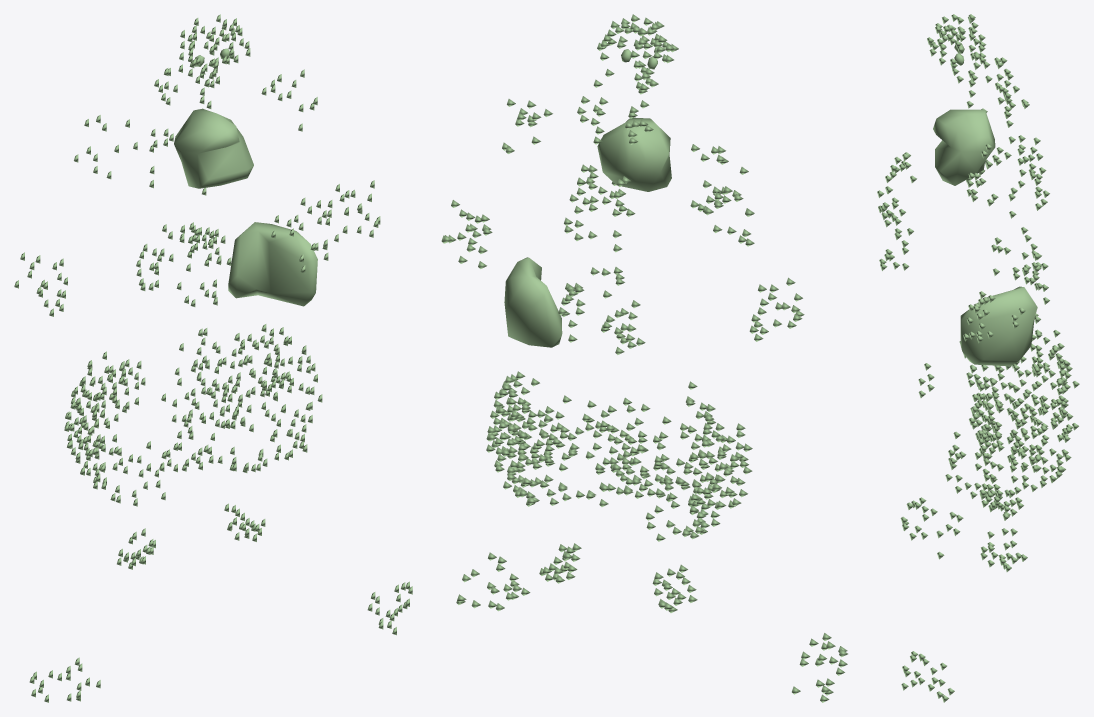
Rendered from pediatric_neonate_male.lymphatic.LOD3.glb.
3 renders of one model, left to right at view 1: azimuth 30°, elevation 25°; view 2: azimuth 150°, elevation 25°; view 3: azimuth 270°, elevation 25°, orthographic. The views are drawn at different scales.
Visible parts, largest first — view 1: PEDIATRIC.NEONATE.MALE.LYMPHATIC.LYMPHATIC_NODES_TRUNK, PEDIATRIC.NEONATE.MALE.LYMPHATIC.SPLEEN, PEDIATRIC.NEONATE.MALE.LYMPHATIC.THYMUS, PEDIATRIC.NEONATE.MALE.LYMPHATIC.LYMPHATIC_NODES_ET, PEDIATRIC.NEONATE.MALE.LYMPHATIC.LYMPHATIC_NODES_THORACIC, PEDIATRIC.NEONATE.MALE.LYMPHATIC.LYMPHATIC_NODES_ARMS, PEDIATRIC.NEONATE.MALE.LYMPHATIC.LYMPHATIC_NODES_LEGS; view 2: PEDIATRIC.NEONATE.MALE.LYMPHATIC.LYMPHATIC_NODES_TRUNK, PEDIATRIC.NEONATE.MALE.LYMPHATIC.THYMUS, PEDIATRIC.NEONATE.MALE.LYMPHATIC.SPLEEN, PEDIATRIC.NEONATE.MALE.LYMPHATIC.LYMPHATIC_NODES_THORACIC, PEDIATRIC.NEONATE.MALE.LYMPHATIC.LYMPHATIC_NODES_ET, PEDIATRIC.NEONATE.MALE.LYMPHATIC.LYMPHATIC_NODES_LEGS, PEDIATRIC.NEONATE.MALE.LYMPHATIC.LYMPHATIC_NODES_ARMS, PEDIATRIC.NEONATE.MALE.LYMPHATIC.LYMPHATIC_NODES_HEAD; view 3: PEDIATRIC.NEONATE.MALE.LYMPHATIC.LYMPHATIC_NODES_TRUNK, PEDIATRIC.NEONATE.MALE.LYMPHATIC.SPLEEN, PEDIATRIC.NEONATE.MALE.LYMPHATIC.THYMUS, PEDIATRIC.NEONATE.MALE.LYMPHATIC.LYMPHATIC_NODES_THORACIC, PEDIATRIC.NEONATE.MALE.LYMPHATIC.LYMPHATIC_NODES_ET, PEDIATRIC.NEONATE.MALE.LYMPHATIC.LYMPHATIC_NODES_LEGS, PEDIATRIC.NEONATE.MALE.LYMPHATIC.LYMPHATIC_NODES_ARMS, PEDIATRIC.NEONATE.MALE.LYMPHATIC.LYMPHATIC_NODES_HEAD.
Boxes of the visible parts, x1=… form: PEDIATRIC.NEONATE.MALE.LYMPHATIC.LYMPHATIC_NODES_TRUNK: x1=64, y1=69, x2=329, y2=569; PEDIATRIC.NEONATE.MALE.LYMPHATIC.SPLEEN: x1=228, y1=222, x2=317, y2=306; PEDIATRIC.NEONATE.MALE.LYMPHATIC.THYMUS: x1=174, y1=108, x2=253, y2=188; PEDIATRIC.NEONATE.MALE.LYMPHATIC.LYMPHATIC_NODES_ET: x1=178, y1=14, x2=250, y2=87; PEDIATRIC.NEONATE.MALE.LYMPHATIC.LYMPHATIC_NODES_THORACIC: x1=136, y1=128, x2=225, y2=306; PEDIATRIC.NEONATE.MALE.LYMPHATIC.LYMPHATIC_NODES_ARMS: x1=14, y1=180, x2=380, y2=316; PEDIATRIC.NEONATE.MALE.LYMPHATIC.LYMPHATIC_NODES_LEGS: x1=29, y1=581, x2=412, y2=702; PEDIATRIC.NEONATE.MALE.LYMPHATIC.LYMPHATIC_NODES_TRUNK: x1=486, y1=99, x2=754, y2=612; PEDIATRIC.NEONATE.MALE.LYMPHATIC.THYMUS: x1=597, y1=117, x2=671, y2=191; PEDIATRIC.NEONATE.MALE.LYMPHATIC.SPLEEN: x1=504, y1=257, x2=562, y2=347; PEDIATRIC.NEONATE.MALE.LYMPHATIC.LYMPHATIC_NODES_THORACIC: x1=558, y1=171, x2=645, y2=354; PEDIATRIC.NEONATE.MALE.LYMPHATIC.LYMPHATIC_NODES_ET: x1=597, y1=14, x2=678, y2=94; PEDIATRIC.NEONATE.MALE.LYMPHATIC.LYMPHATIC_NODES_LEGS: x1=456, y1=552, x2=847, y2=702; PEDIATRIC.NEONATE.MALE.LYMPHATIC.LYMPHATIC_NODES_ARMS: x1=441, y1=200, x2=804, y2=341; PEDIATRIC.NEONATE.MALE.LYMPHATIC.LYMPHATIC_NODES_HEAD: x1=577, y1=79, x2=653, y2=144; PEDIATRIC.NEONATE.MALE.LYMPHATIC.LYMPHATIC_NODES_TRUNK: x1=877, y1=57, x2=1079, y2=571; PEDIATRIC.NEONATE.MALE.LYMPHATIC.SPLEEN: x1=960, y1=286, x2=1037, y2=366; PEDIATRIC.NEONATE.MALE.LYMPHATIC.THYMUS: x1=933, y1=109, x2=995, y2=185; PEDIATRIC.NEONATE.MALE.LYMPHATIC.LYMPHATIC_NODES_THORACIC: x1=985, y1=135, x2=1049, y2=304; PEDIATRIC.NEONATE.MALE.LYMPHATIC.LYMPHATIC_NODES_ET: x1=927, y1=14, x2=986, y2=83; PEDIATRIC.NEONATE.MALE.LYMPHATIC.LYMPHATIC_NODES_LEGS: x1=900, y1=497, x2=963, y2=702; PEDIATRIC.NEONATE.MALE.LYMPHATIC.LYMPHATIC_NODES_ARMS: x1=963, y1=156, x2=1028, y2=343; PEDIATRIC.NEONATE.MALE.LYMPHATIC.LYMPHATIC_NODES_HEAD: x1=966, y1=61, x2=1019, y2=127.
Bounding box in the file's own units: 0.1822 × 0.2965 × 0.0897.
